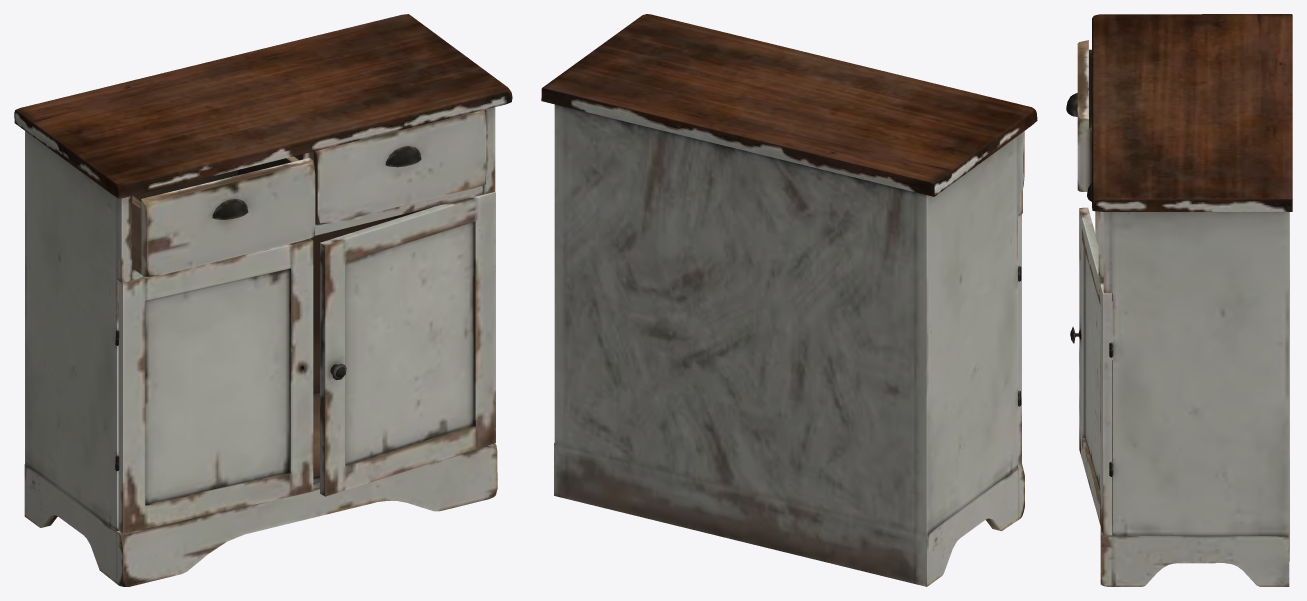
Rendered from painted_wooden_cabinet.glb.
3 renders of one model, left to right at view 1: azimuth 30°, elevation 25°; view 2: azimuth 150°, elevation 25°; view 3: azimuth 270°, elevation 25°, orthographic. The views are drawn at different scales.
Parts seen in each view (by area): view 1: painted_wooden_cabinet; view 2: painted_wooden_cabinet; view 3: painted_wooden_cabinet.
Part boxes in pixels (x1,y1,x2,y2): painted_wooden_cabinet: (14,14,512,586); painted_wooden_cabinet: (541,14,1037,586); painted_wooden_cabinet: (1066,14,1292,586).
Size of the model in its own units: 1.19 by 1.18 by 0.6161.
1 material, 1 textured.
